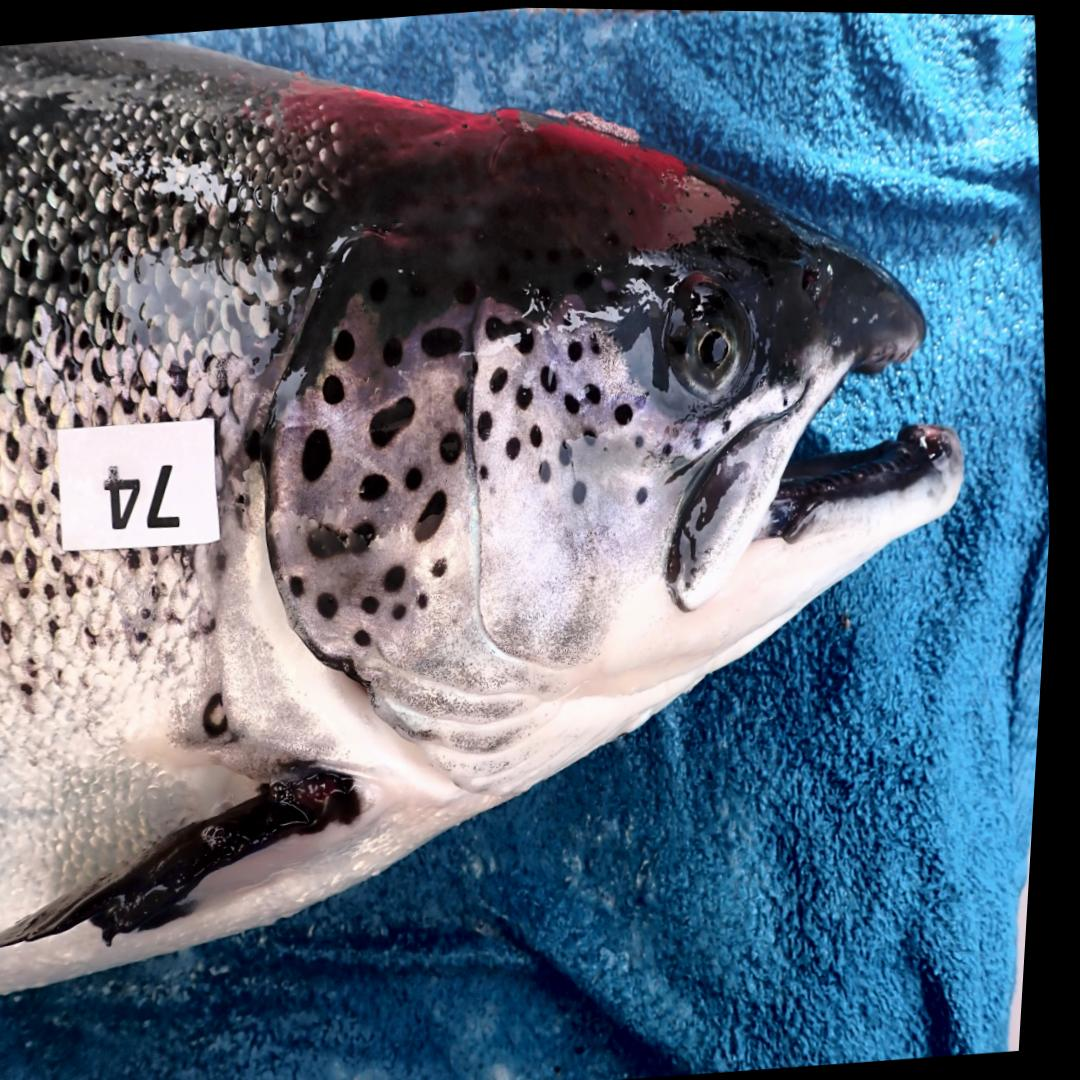spot: (313, 520, 381, 558), (374, 395, 419, 446), (488, 314, 538, 352), (419, 489, 453, 539), (306, 427, 335, 479), (424, 324, 465, 356), (364, 471, 394, 500), (326, 372, 348, 404), (444, 431, 466, 463), (337, 328, 359, 360), (386, 336, 406, 365), (390, 563, 411, 590), (323, 591, 344, 617), (493, 365, 512, 391), (543, 364, 562, 390), (481, 409, 497, 438), (411, 465, 428, 489), (618, 401, 637, 422), (367, 593, 386, 613), (570, 337, 586, 360), (576, 478, 591, 502), (295, 573, 311, 595), (510, 435, 525, 458), (521, 383, 536, 406), (458, 385, 471, 411), (589, 381, 605, 401), (437, 556, 453, 575), (568, 391, 583, 411), (564, 440, 577, 463), (543, 458, 556, 481), (534, 422, 547, 444), (593, 330, 605, 353), (362, 628, 378, 645), (399, 602, 413, 618), (588, 427, 602, 443), (641, 485, 653, 503), (424, 590, 435, 607), (639, 391, 650, 407), (484, 463, 494, 478), (667, 439, 677, 453), (640, 433, 647, 445)
